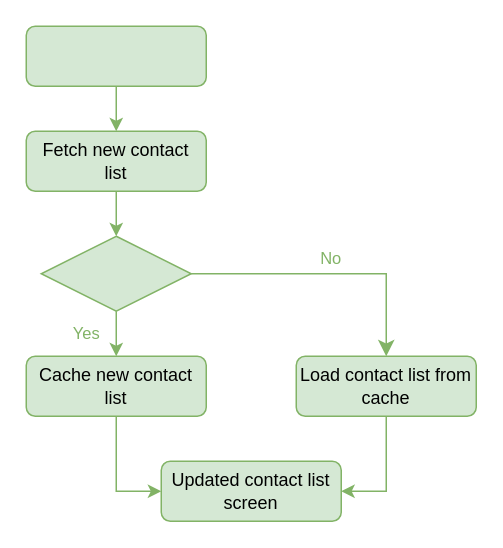
This 503x548 diagram has some shape labels left out. Each missing label, with the centre of its shape:
Show contact list screen: (x=115, y=55)
Success?: (x=115, y=273)
